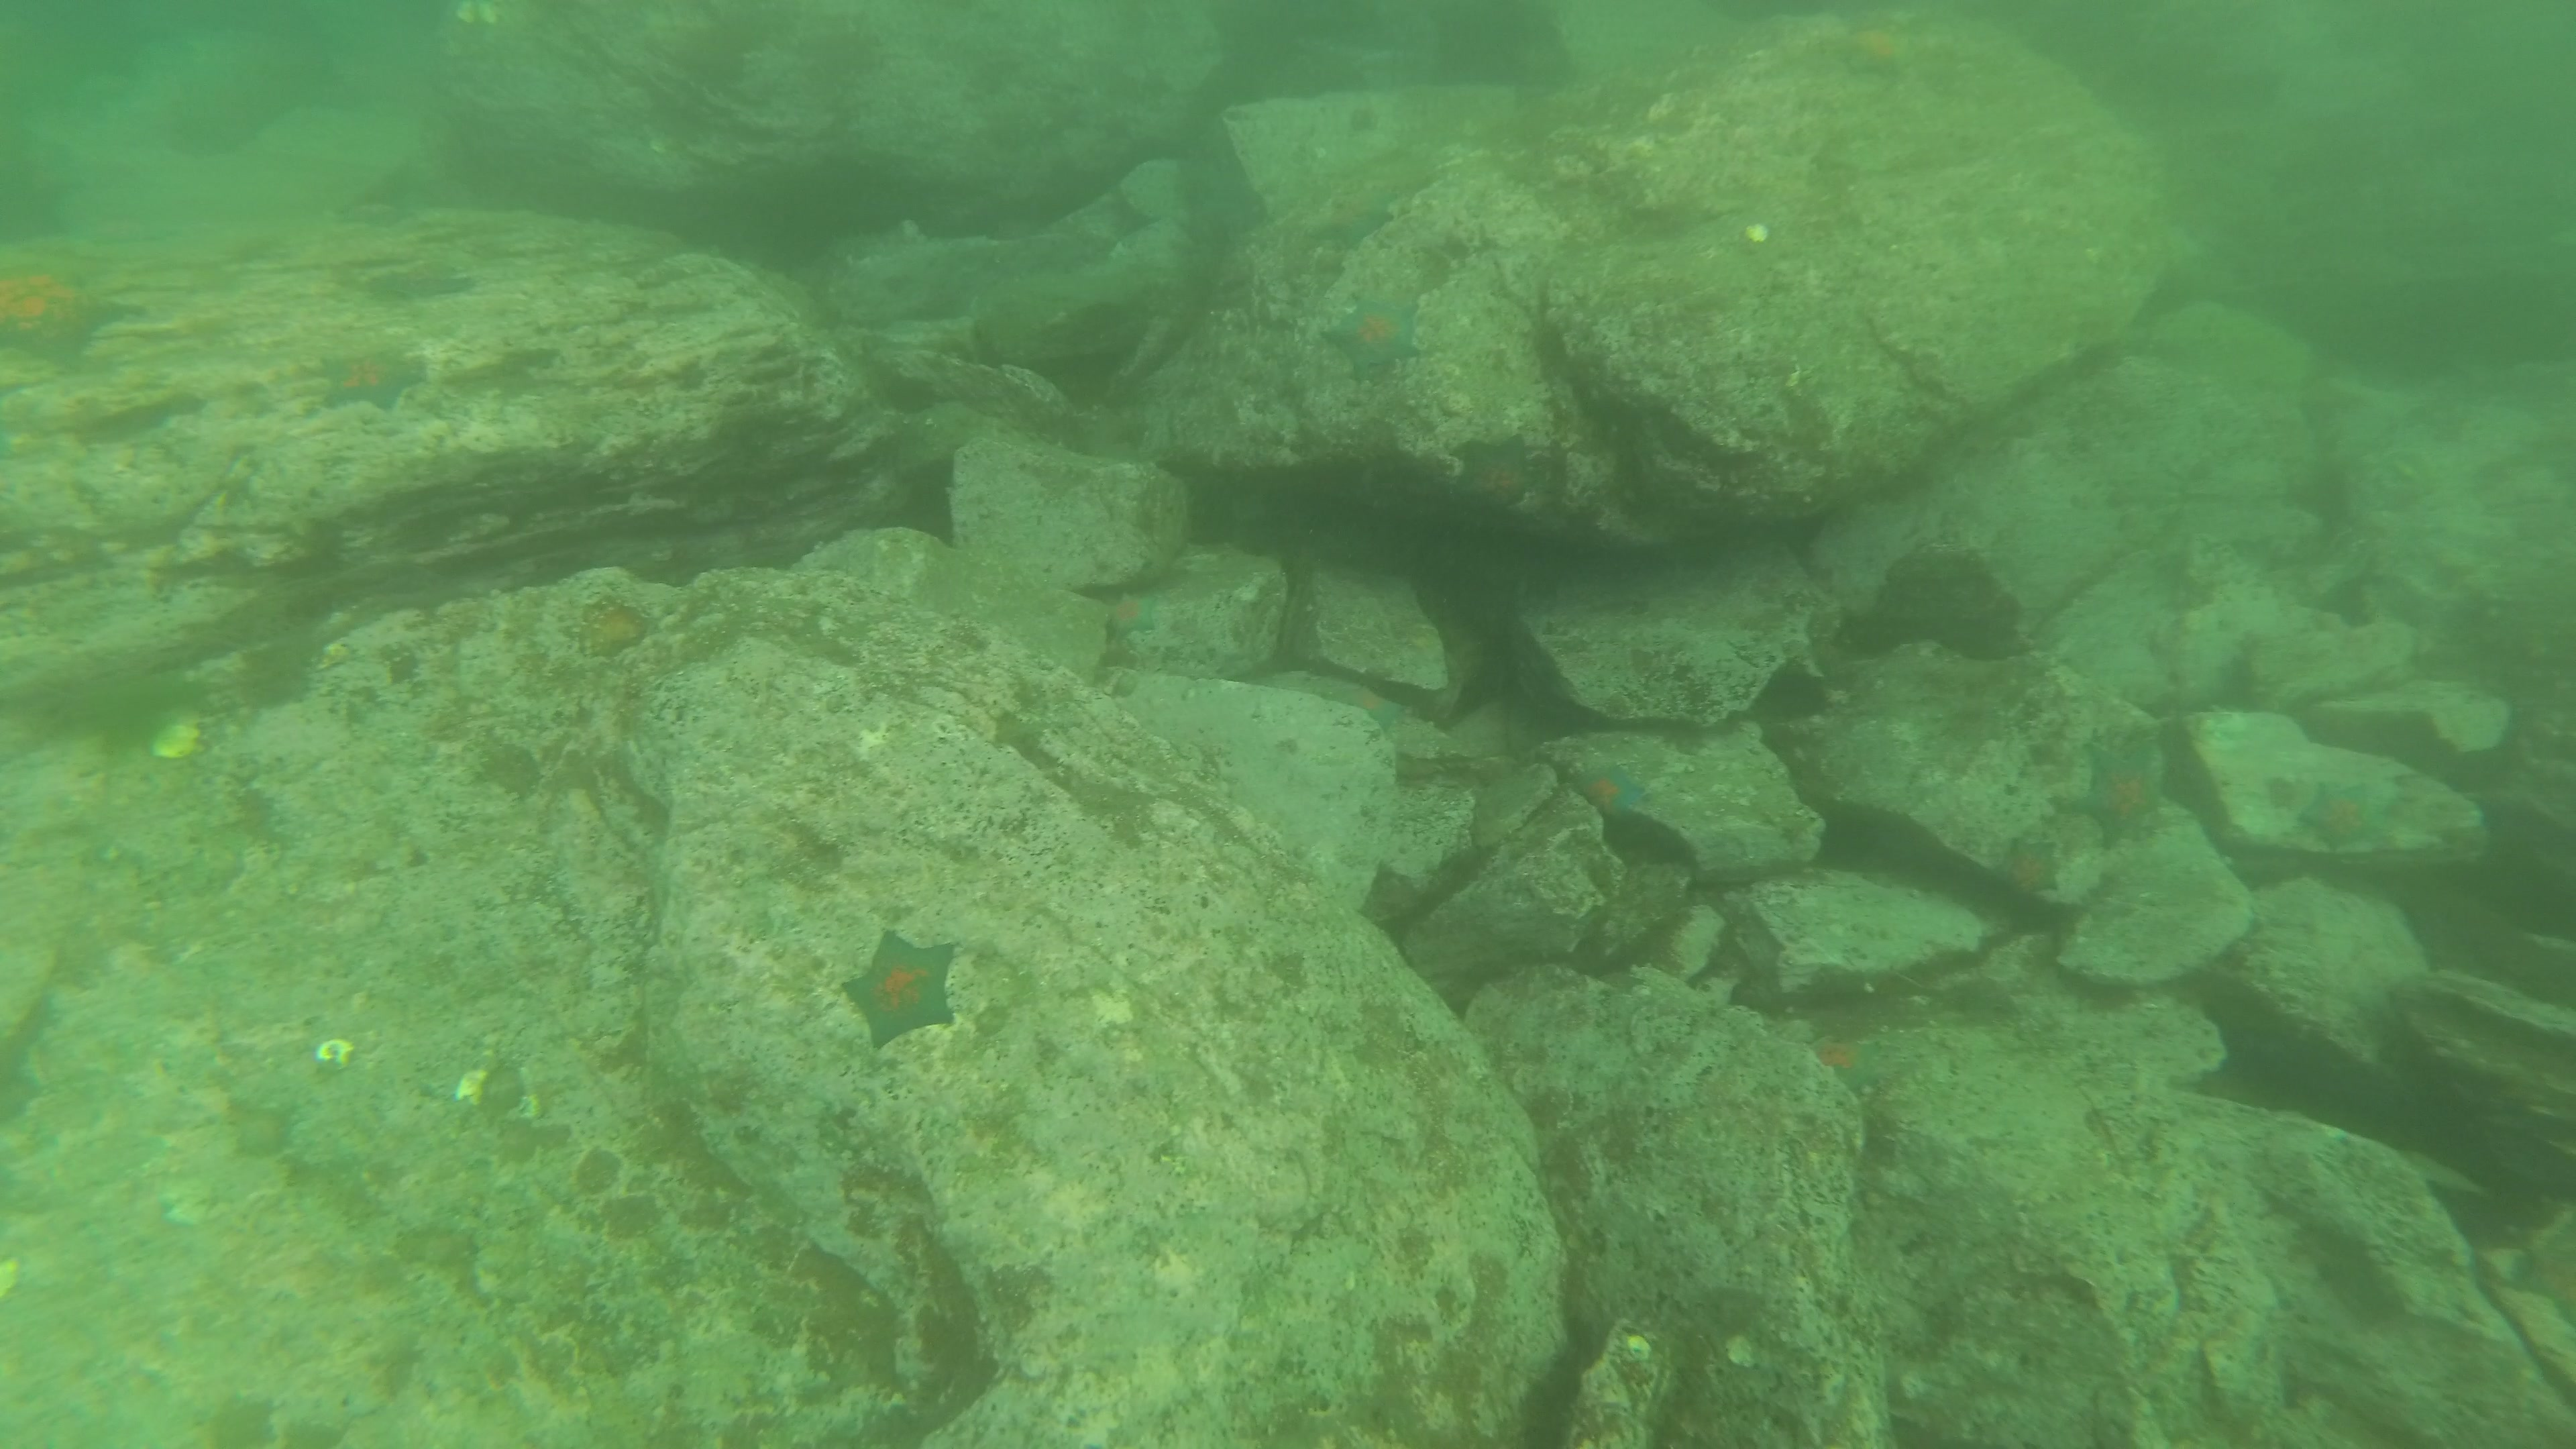starfish: (840, 925, 957, 1053), (0, 272, 147, 361), (2061, 741, 2160, 851), (1318, 297, 1421, 382), (1447, 435, 1552, 511), (322, 345, 425, 412), (1798, 1035, 1882, 1097), (2304, 784, 2376, 855), (1571, 763, 1645, 830), (1824, 30, 1927, 78), (1996, 837, 2058, 897), (366, 274, 472, 304), (331, 202, 418, 232)
